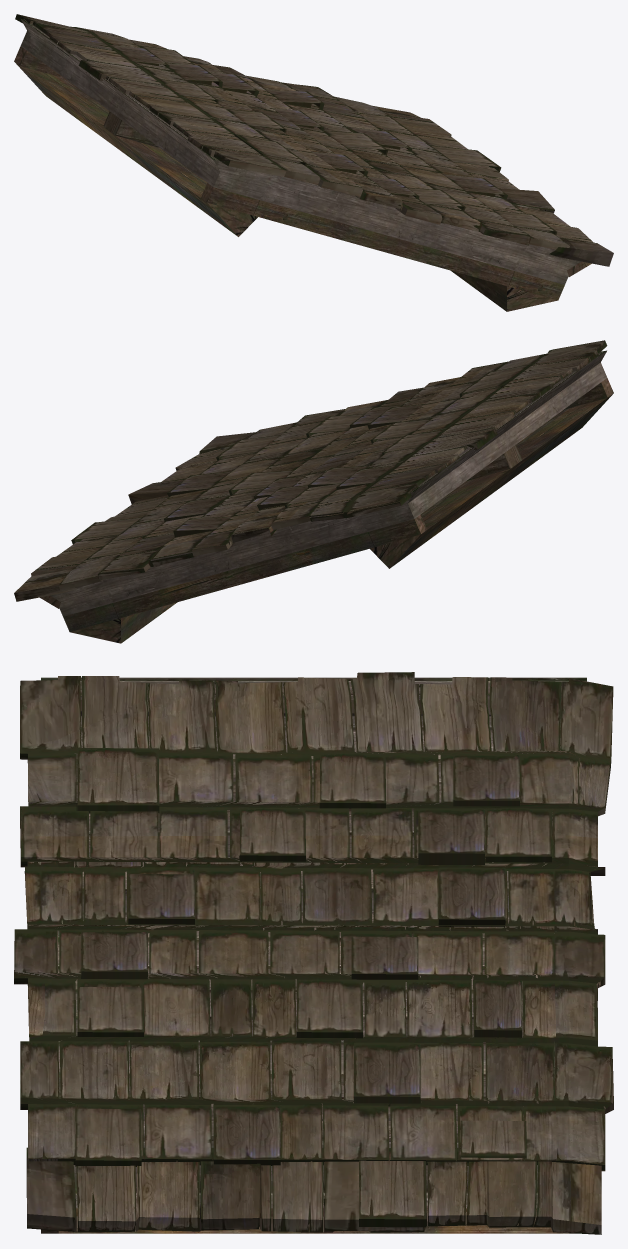
3 views of the same model, one above another, from view 1: azimuth 30°, elevation 25°; view 2: azimuth 150°, elevation 25°; view 3: azimuth 270°, elevation 25° (orthographic). The views are drawn at different scales.
Parts seen in each view (by area): view 1: SM_T1_Roof_Large_Shallow_LOD0; view 2: SM_T1_Roof_Large_Shallow_LOD0; view 3: SM_T1_Roof_Large_Shallow_LOD0.
Boxes of the visible parts, x1,y1,x2,y2 form: SM_T1_Roof_Large_Shallow_LOD0: (14, 14, 613, 311); SM_T1_Roof_Large_Shallow_LOD0: (14, 340, 613, 643); SM_T1_Roof_Large_Shallow_LOD0: (14, 672, 613, 1234).
Bounding box in the file's own units: 3.67 × 1.96 × 3.3.
Materials: 3 (3 with a texture image).
